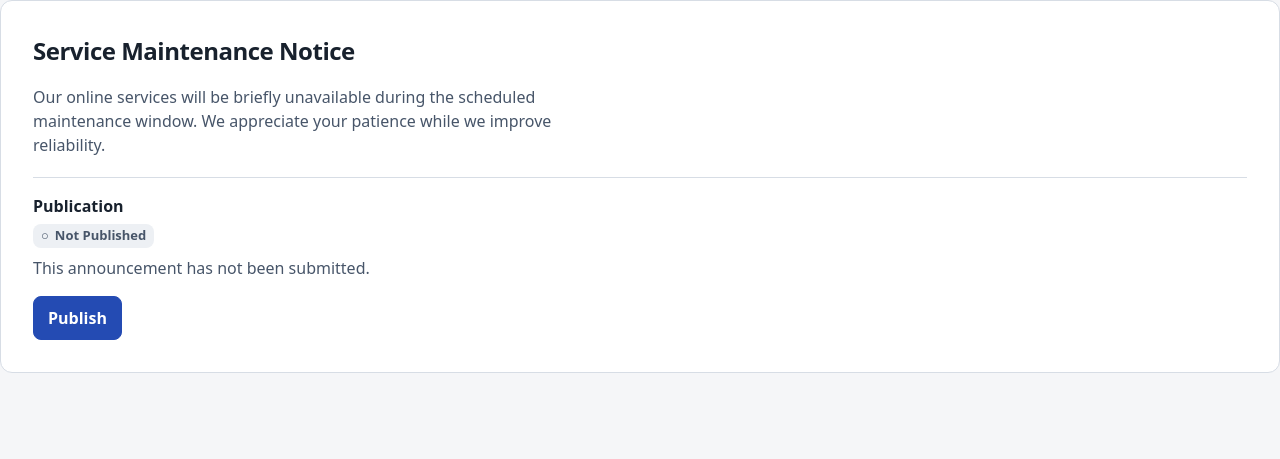
Test: shows the service rejection and keeps it when a new attempt starts
Later steps or results of the test are not shown.
Click the button "Publish".
click(77, 318)  # box [33,296,122,340]
Wait 10120 ms
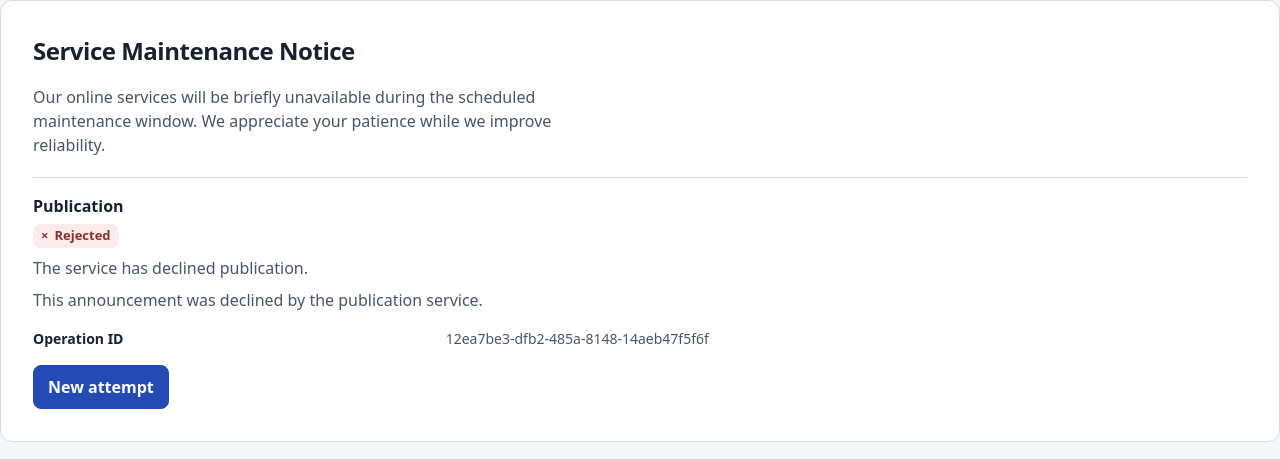
Expected: the button "New attempt" is enabled, [33,364,169,408]
Expected: the text "Rejected" is shown, [54,226,111,244]
Expected: the text "This announcement was declined by the publication service." is shown, [33,288,483,310]
